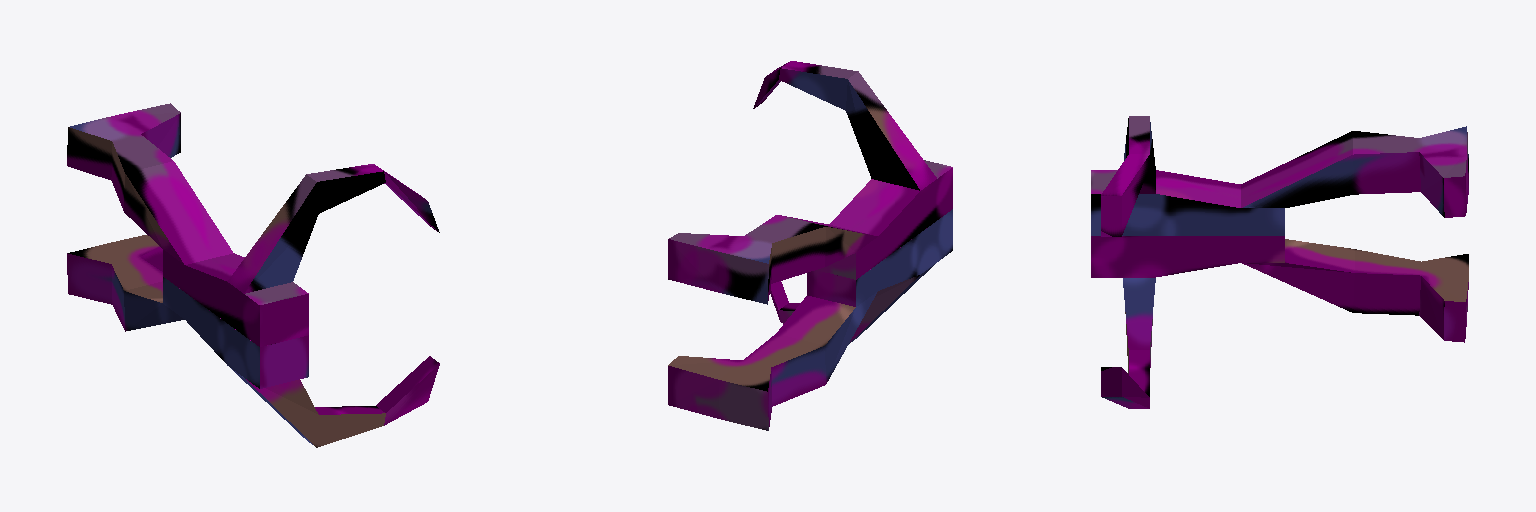
3 views of the same model, side by side, from view 1: azimuth 30°, elevation 25°; view 2: azimuth 150°, elevation 25°; view 3: azimuth 270°, elevation 25° (orthographic).
Visible parts, largest first — view 1: Cube; view 2: Cube; view 3: Cube.
Part boxes in pixels (bbox=[...]): Cube: bbox=[67, 103, 439, 447]; Cube: bbox=[668, 61, 952, 430]; Cube: bbox=[1091, 116, 1468, 408].
Bounding box in the file's own units: 1.51 × 2.03 × 2.62.
Materials: 1 (1 with a texture image).